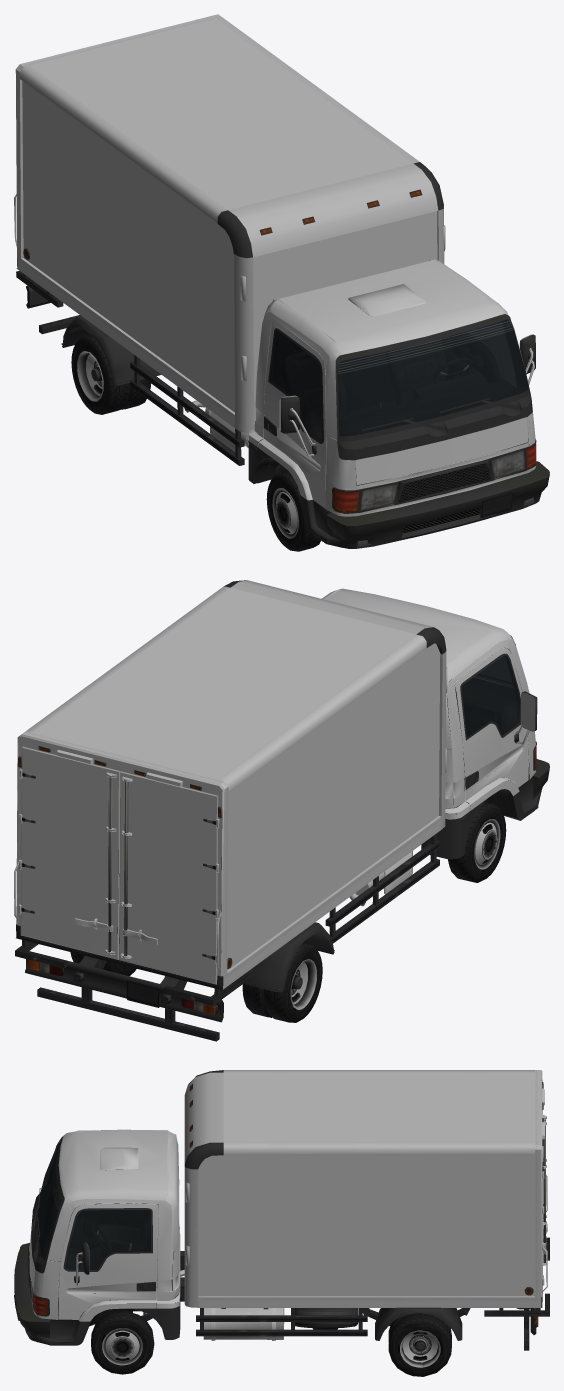
Rendered from truck.glb.
The picture shows the model from 3 angles, top to bottom: view 1: azimuth 30°, elevation 25°; view 2: azimuth 150°, elevation 25°; view 3: azimuth 270°, elevation 25°; orthographic projection. The views are drawn at different scales.
Visible parts, largest first — view 1: truck; view 2: truck; view 3: truck.
Part boxes in pixels (x1,y1,x2,y2): truck: (14,14,549,551); truck: (14,580,549,1041); truck: (14,1070,549,1376).
Size of the model in its own units: 2.6 by 2.85 by 6.02.
6 materials, 5 textured.
